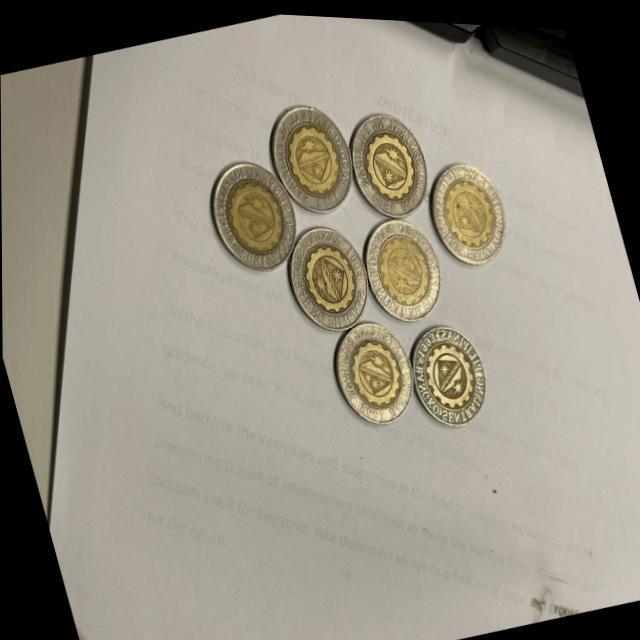10_Old_Back: (320, 315, 421, 428), (206, 153, 303, 269), (279, 219, 372, 336), (266, 95, 357, 212), (354, 208, 447, 321), (423, 147, 509, 265), (340, 106, 430, 214), (404, 317, 490, 423)
